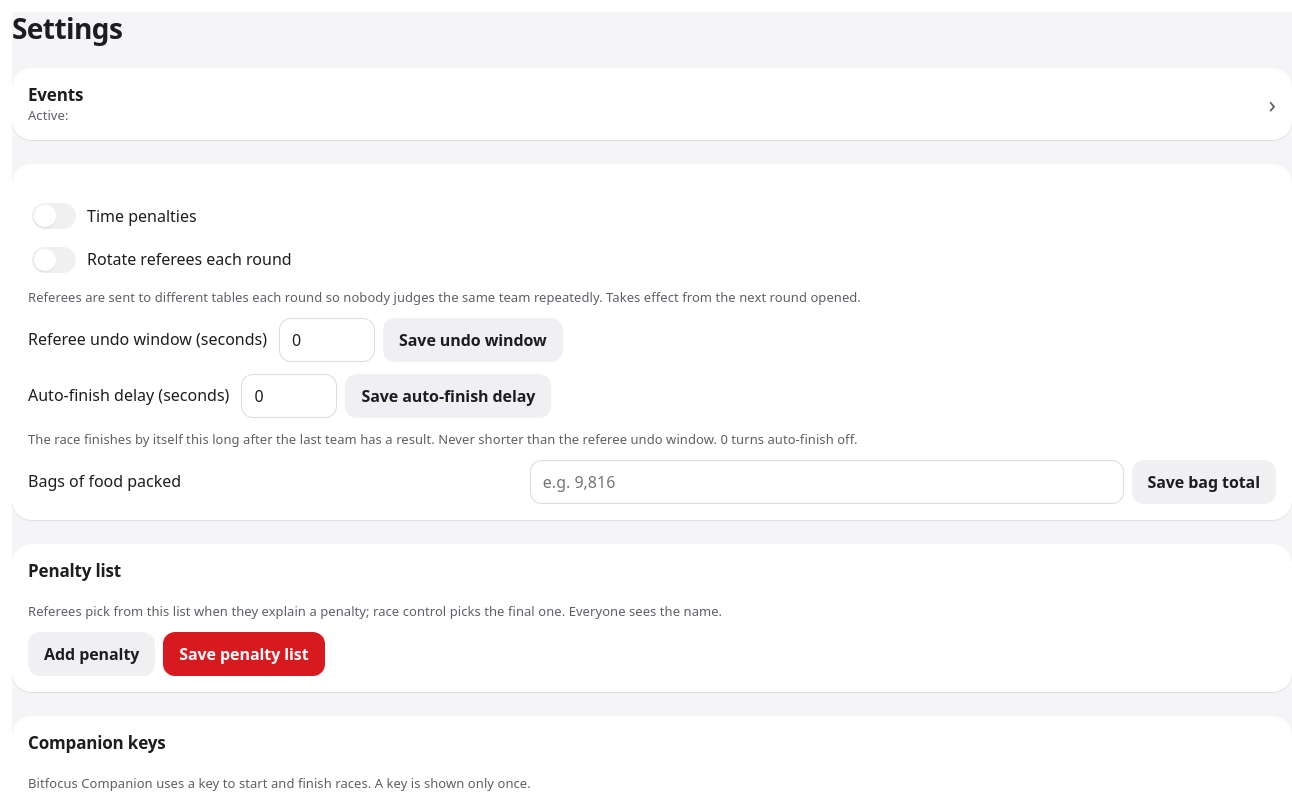
Test case: admin sections › has the Time penalties switch in the event's settings, flipping at once while the server confirms
The image size is (1292, 805).
Click the switch labelled "Time penalties". click: [54, 216]
box: [32,204,76,229]
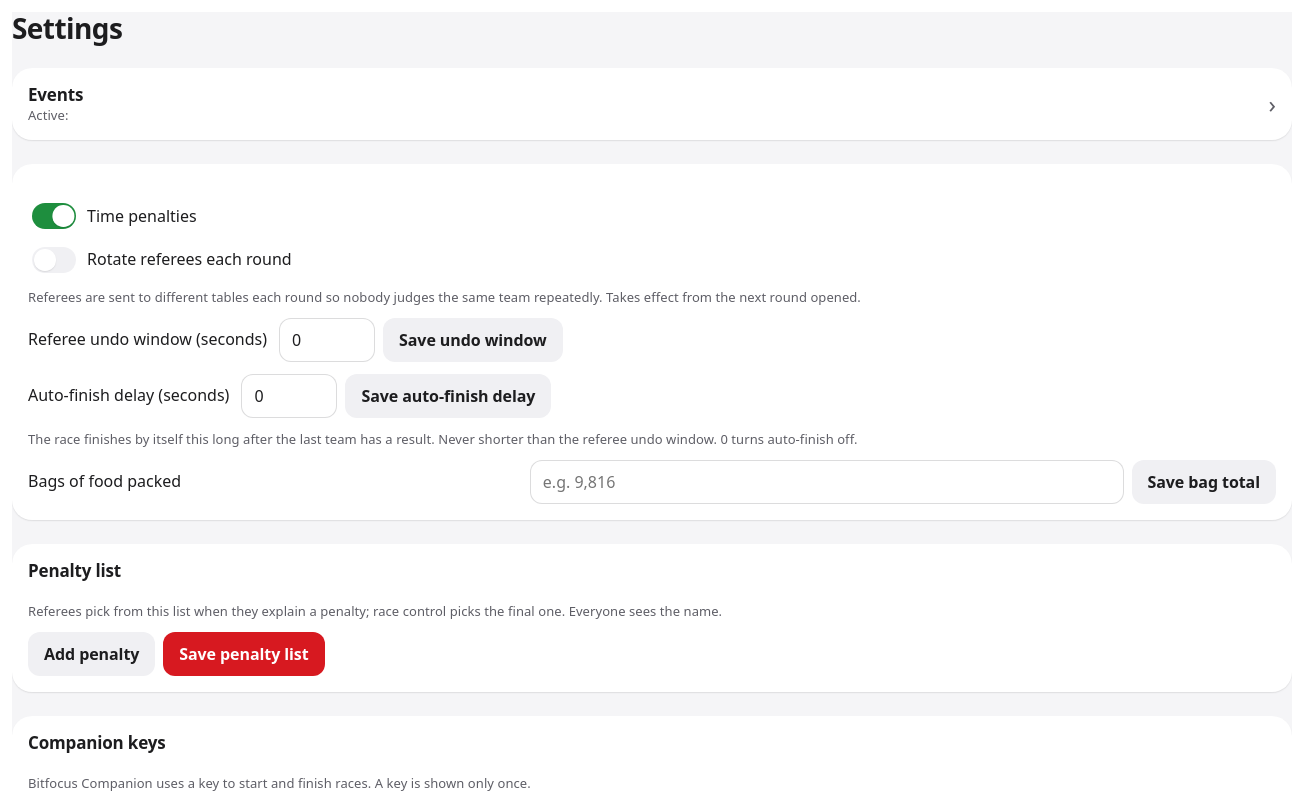
Now the switch labelled "Time penalties" is checked, box [32,204,76,229]
